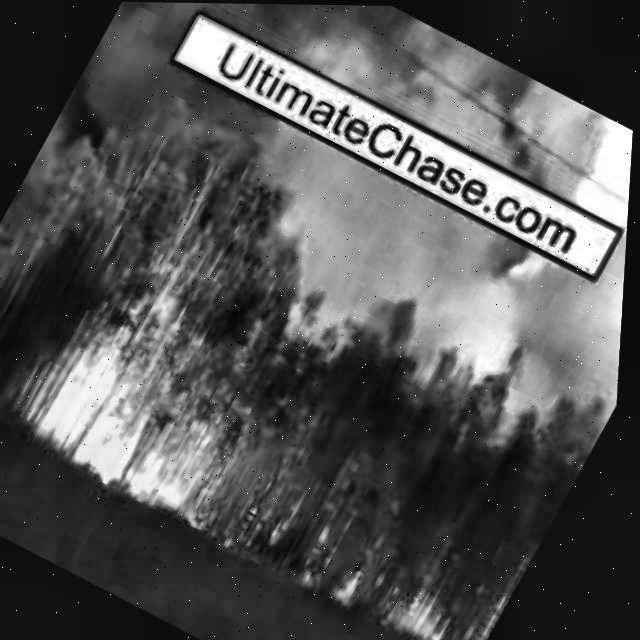Fire: (7, 254, 304, 532), (289, 507, 394, 611), (395, 572, 475, 640)
Smoke: (32, 23, 639, 426), (121, 2, 638, 211)
